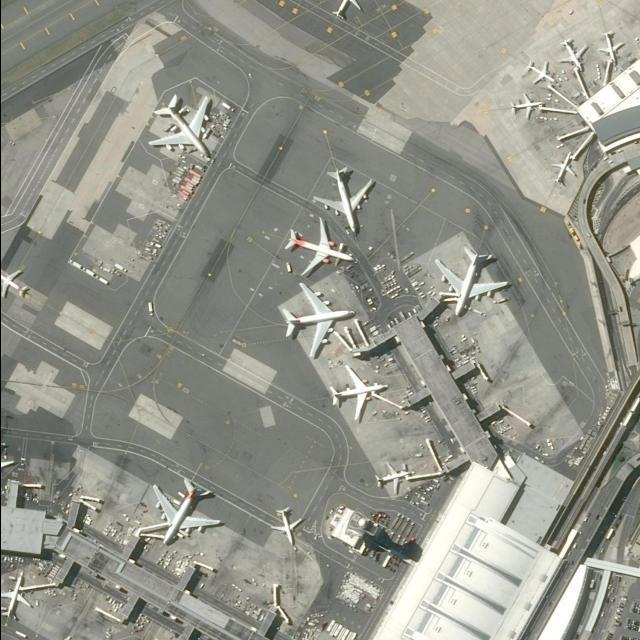Aircraft: (279, 285, 355, 361), (433, 248, 513, 320), (149, 478, 221, 553), (313, 164, 381, 235), (148, 94, 216, 161), (283, 220, 356, 276), (327, 364, 391, 422), (0, 572, 34, 622), (270, 506, 304, 550), (557, 37, 592, 74), (374, 462, 409, 497), (549, 149, 580, 186), (511, 92, 545, 124), (597, 29, 625, 67), (0, 268, 31, 302), (525, 59, 557, 89), (0, 440, 16, 491), (332, 0, 365, 20)
